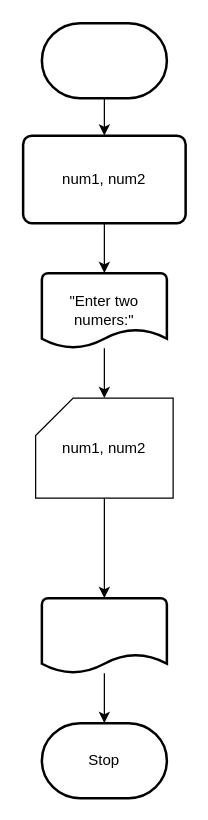
This 208x820 diagram has some shape labels left out. The centre of each missing label's shape, as x and y in pixels:
"num1 * num2" belongs at point (104, 635).
"Start" belongs at point (104, 60).
